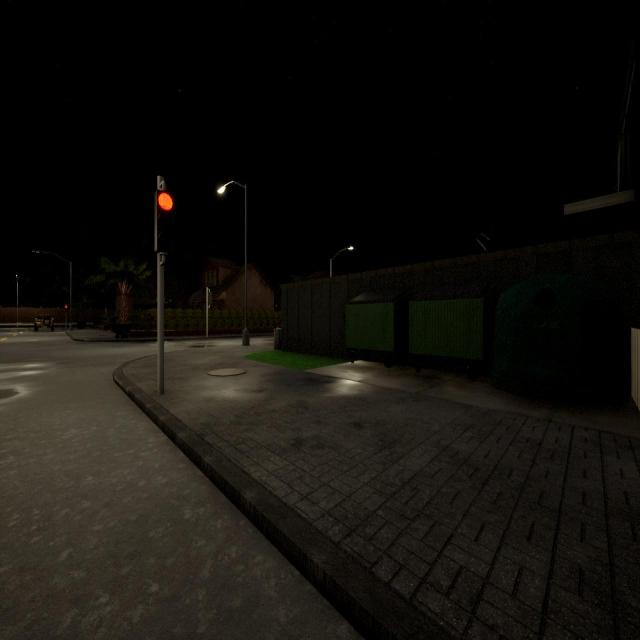Vehicle: (34, 314, 54, 332)
traffic_light: (155, 190, 175, 253), (208, 292, 213, 305), (64, 305, 68, 312)
